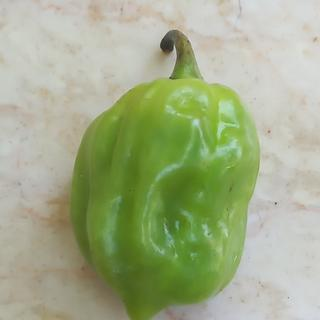Grade-A: (67, 75, 259, 318)
